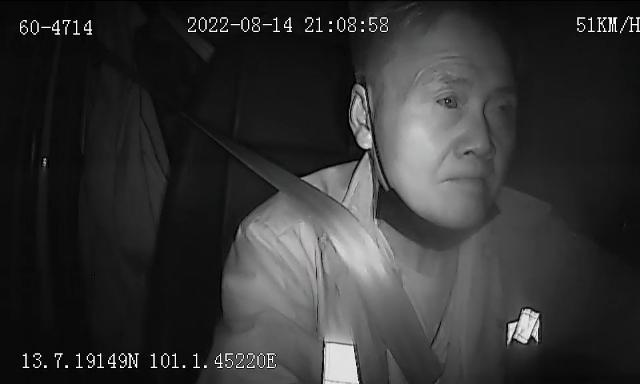SafeDriving: (428, 81, 467, 117), (484, 89, 520, 127)
Seatbelt: (194, 120, 444, 384)
